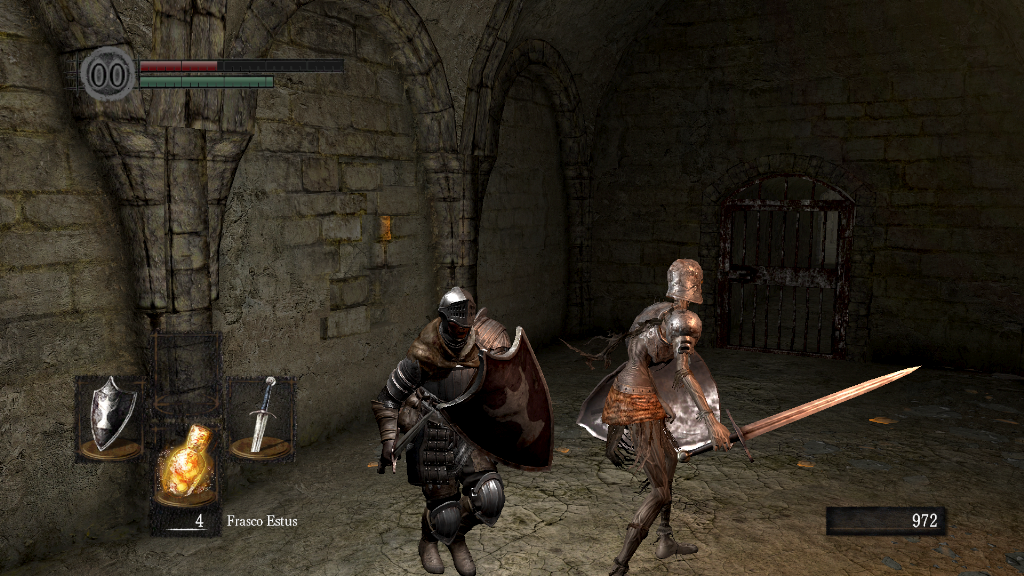health: (138, 58, 343, 71)
humanity: (80, 45, 136, 102)
player: (371, 286, 558, 576)
souls: (825, 506, 945, 536)
stamina: (138, 74, 274, 88)
undeadSoldier: (576, 260, 732, 576)
